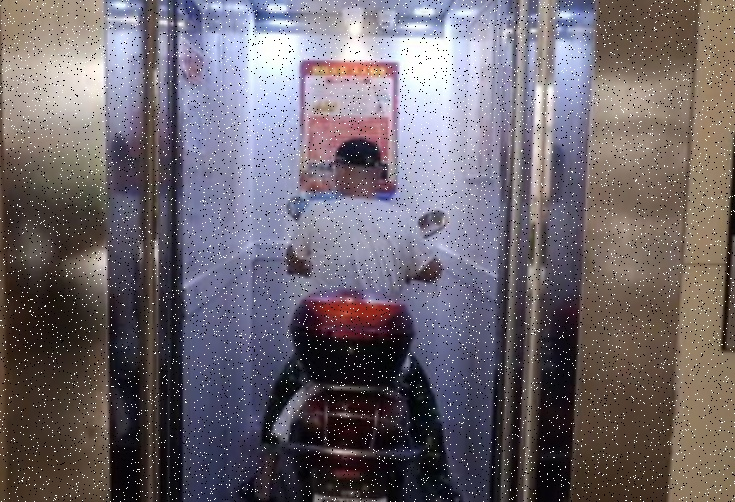ebike: (282, 198, 447, 502)
person: (246, 139, 462, 496)
